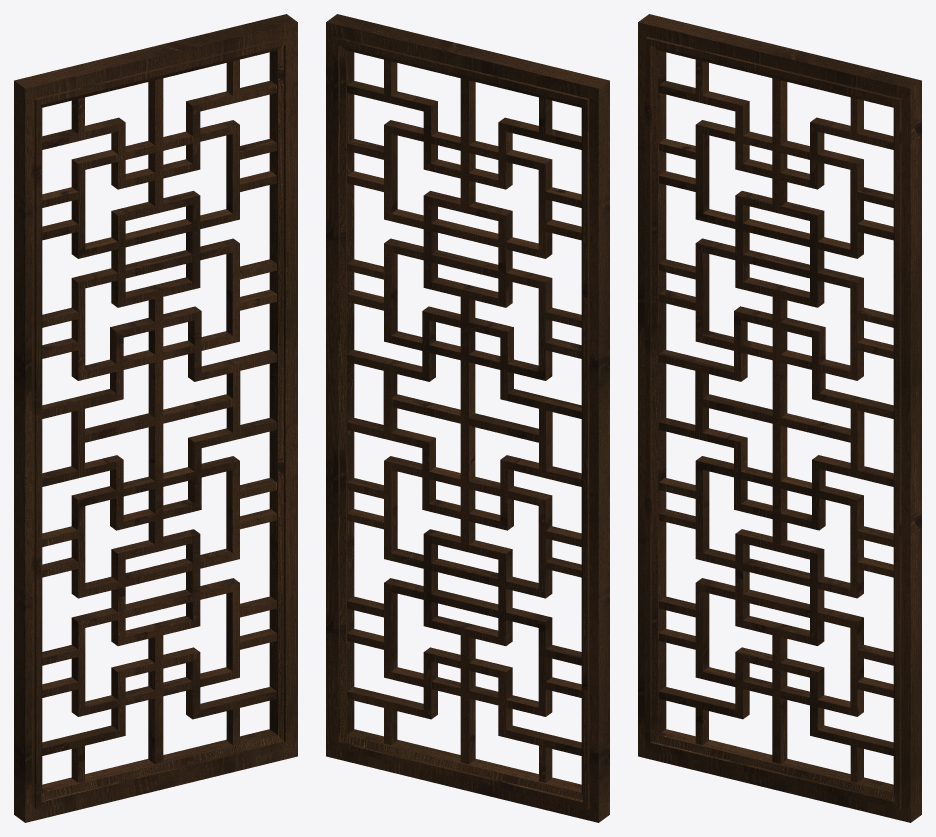
Rendered from door.FBX.
The picture shows the model from 3 angles, left to right: view 1: azimuth 30°, elevation 25°; view 2: azimuth 150°, elevation 25°; view 3: azimuth 330°, elevation 25°; orthographic projection.
Parts seen in each view (by area): view 1: polySurface112; view 2: polySurface112; view 3: polySurface112.
Boxes of the visible parts, bbox=[...] form: polySurface112: bbox=[14, 14, 297, 822]; polySurface112: bbox=[326, 14, 609, 822]; polySurface112: bbox=[638, 14, 921, 822].
Size of the model in its own units: 115 by 296 by 10.76.
1 material, 1 textured.
